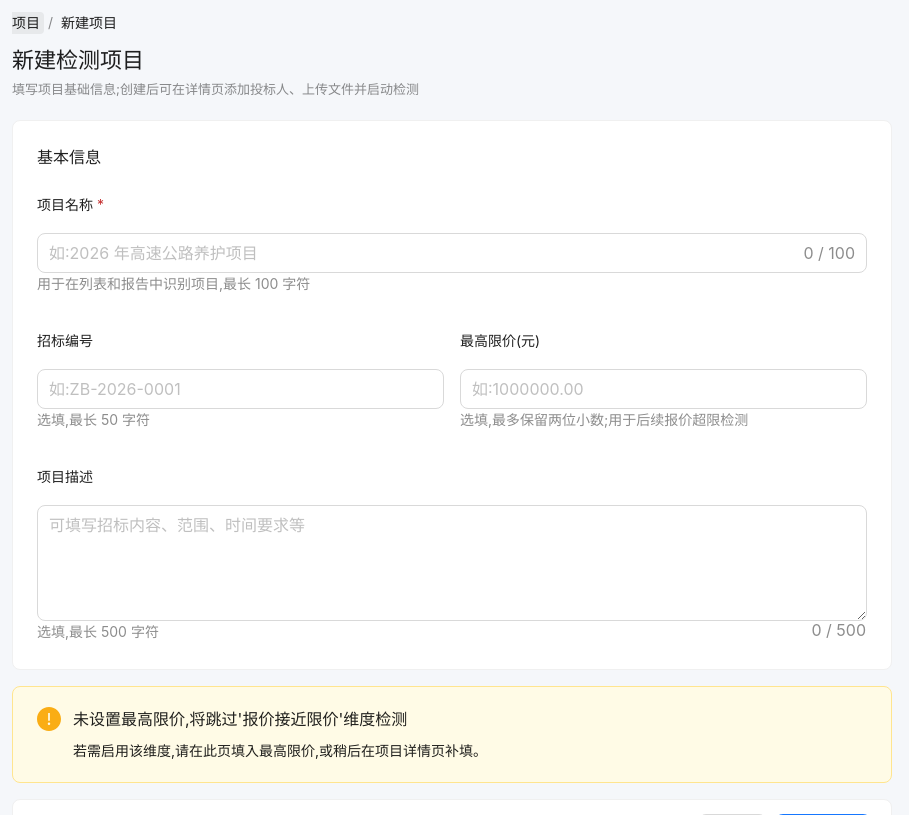
it: ProjectCreatePage › max_price 小数过多显示错误
The width and height of the screenshot is (909, 815).
Type "合法项目" into the field with test id "create-name".
click(424, 253); type("合法项目")  # box [49,241,799,265]
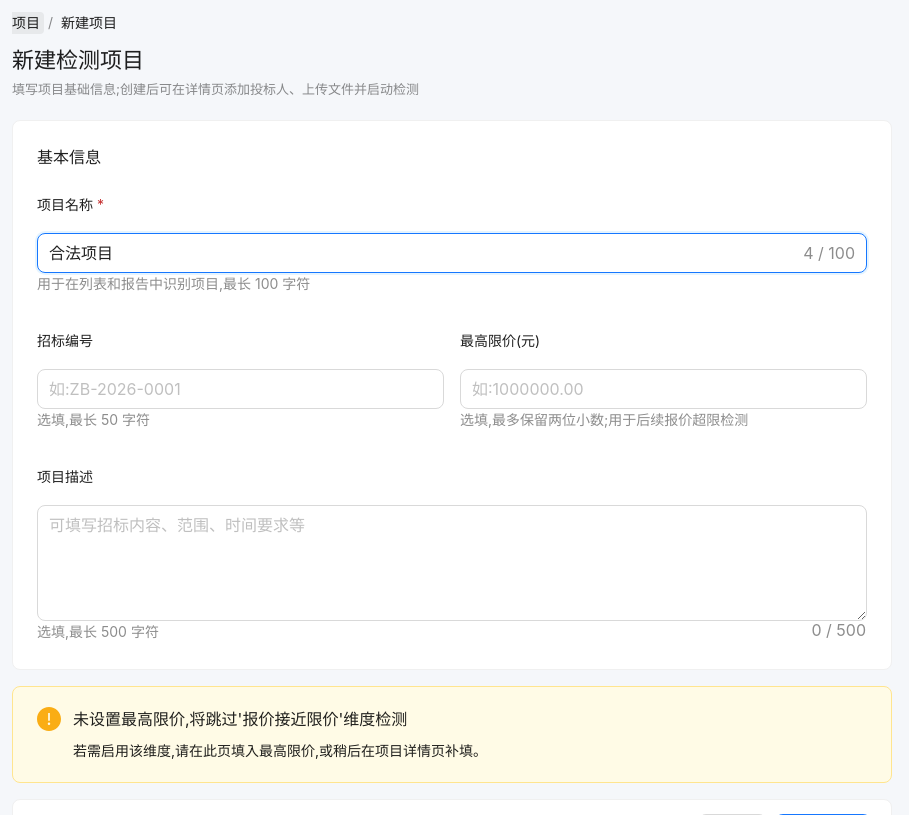
Type "1.234" into the field with test id "create-max-price".
click(664, 389); type("1.234")  # box [460,369,867,409]
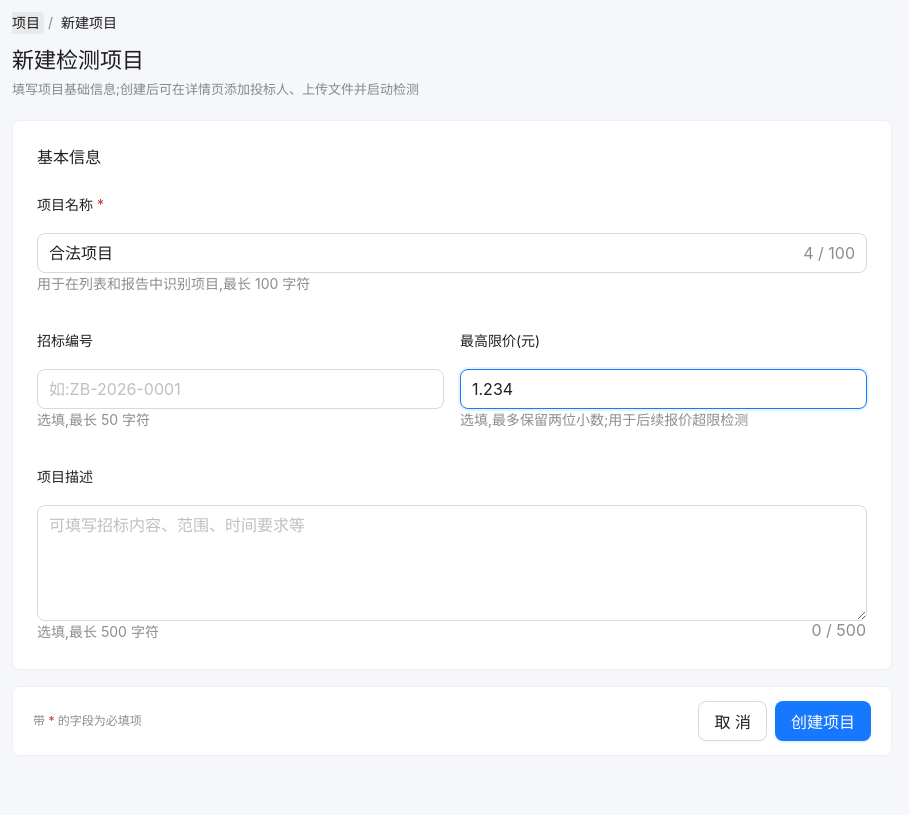
Click the button with test id "create-submit".
click(823, 721)  # box [775,701,871,741]
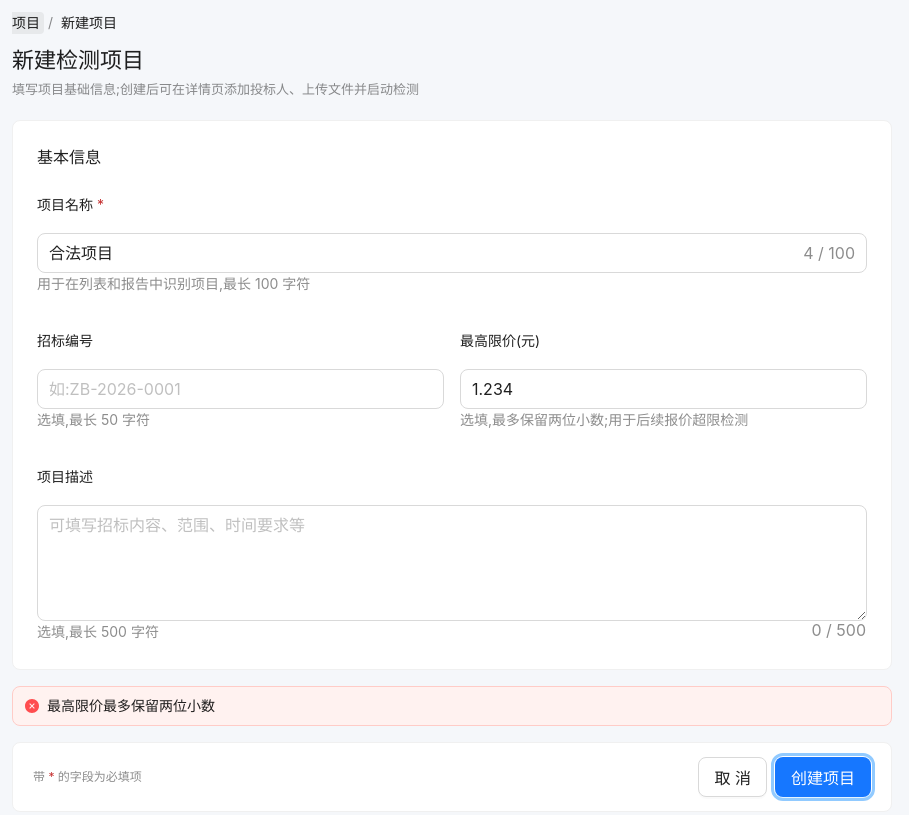
expect the message with test id "create-error" shows "最多保留两位小数": met, box [47,697,215,714]
